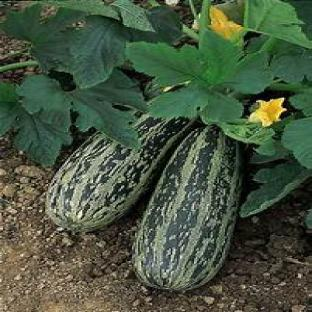Zucchini: (134, 127, 240, 290), (47, 117, 189, 231)
